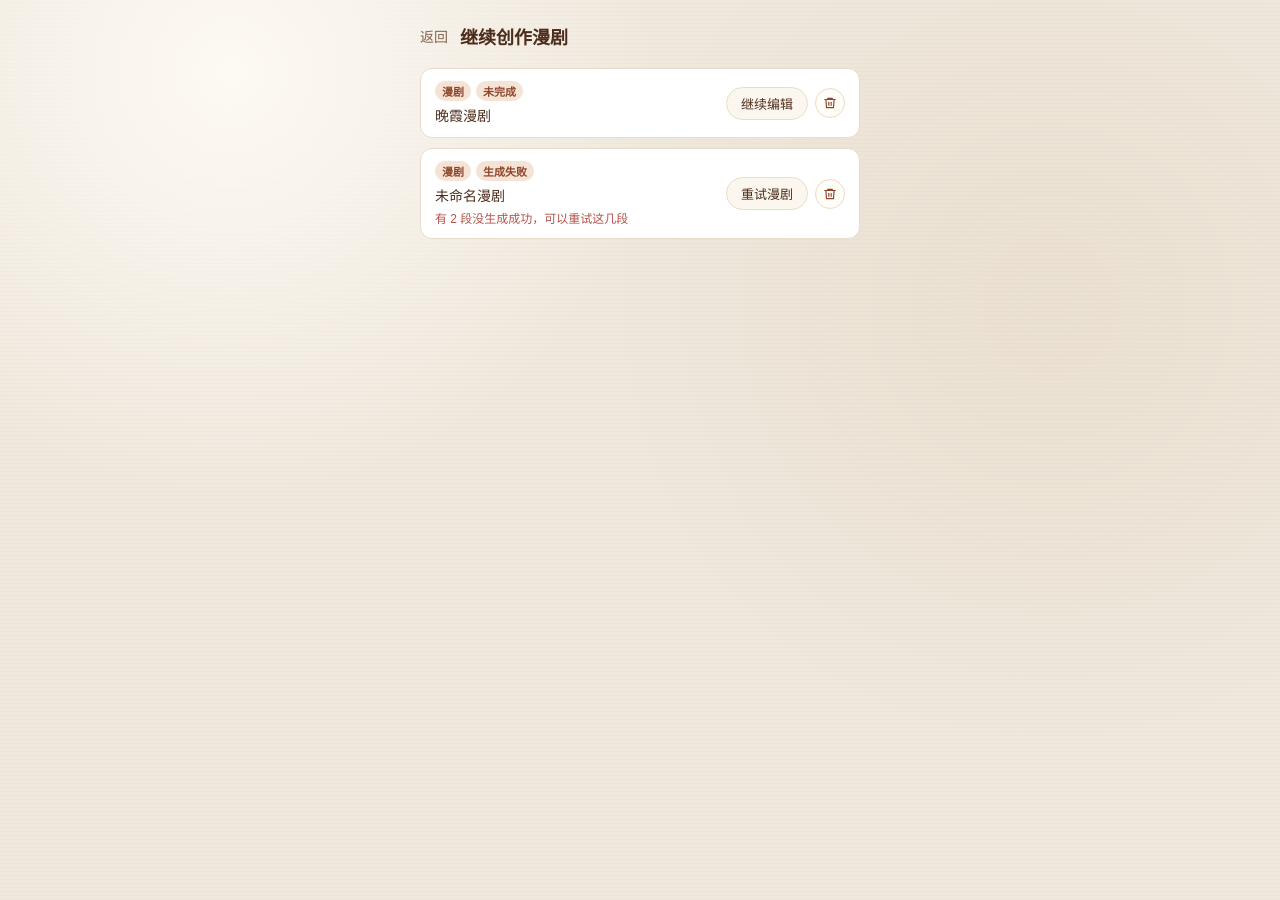
Test: UnfinishedWorks › deletes an unfinished motion draft only after confirmation
Click the button named "删除《晚霞漫剧》".
click(830, 103)  # box x1=815 y1=88 x2=845 y2=118
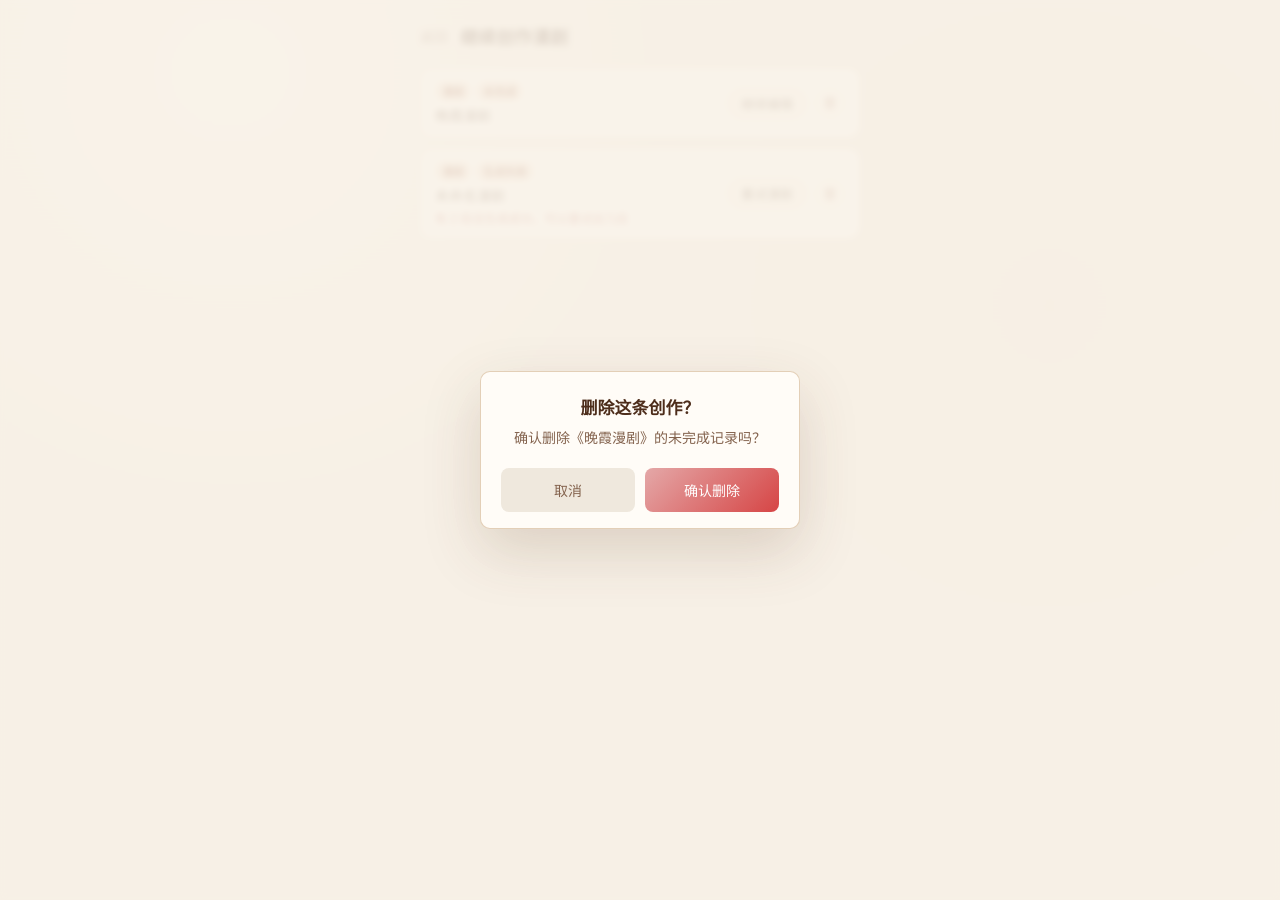
Click the button "确认删除".
click(712, 490)  # box x1=645 y1=468 x2=779 y2=512
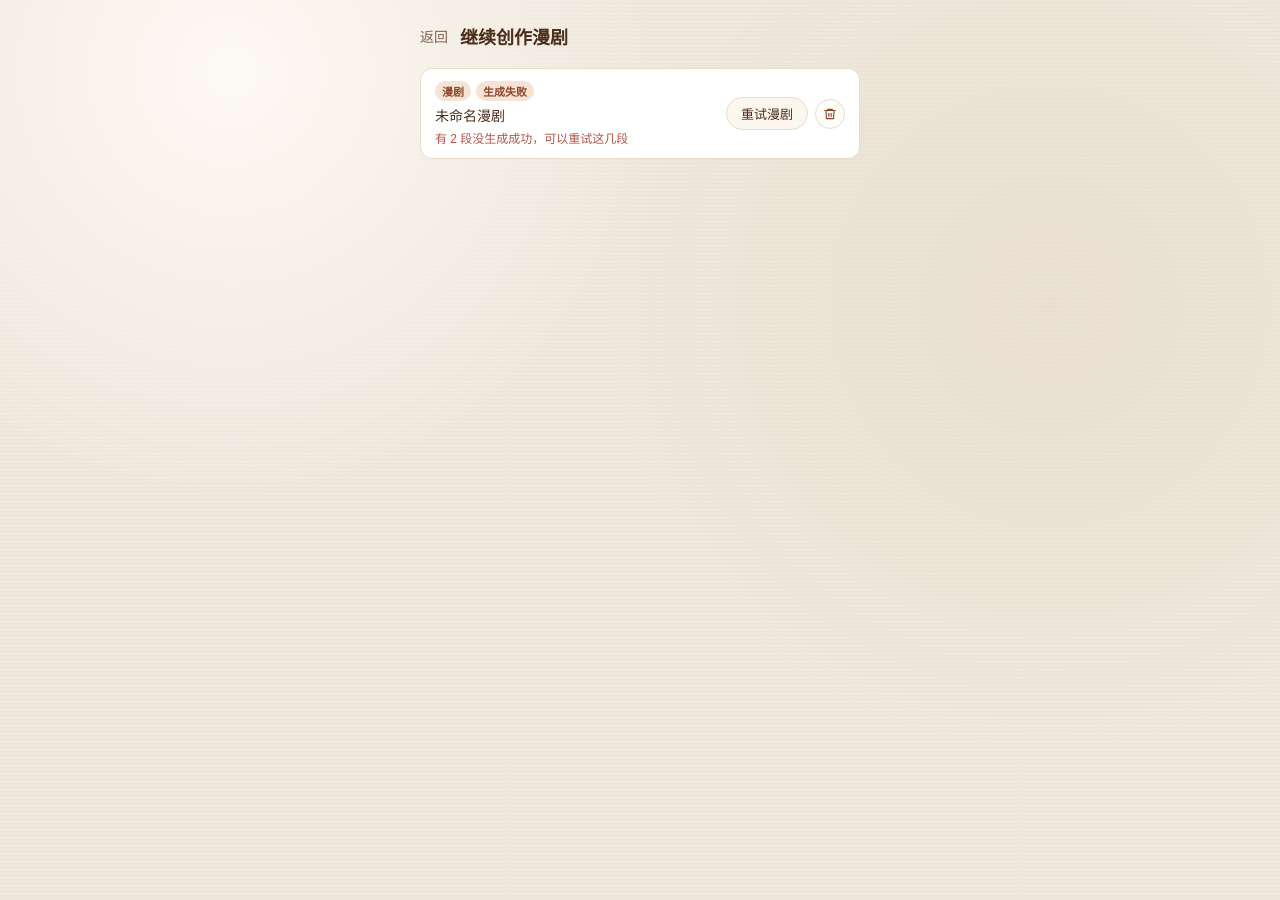
Check: the text "晚霞漫剧" is gone
